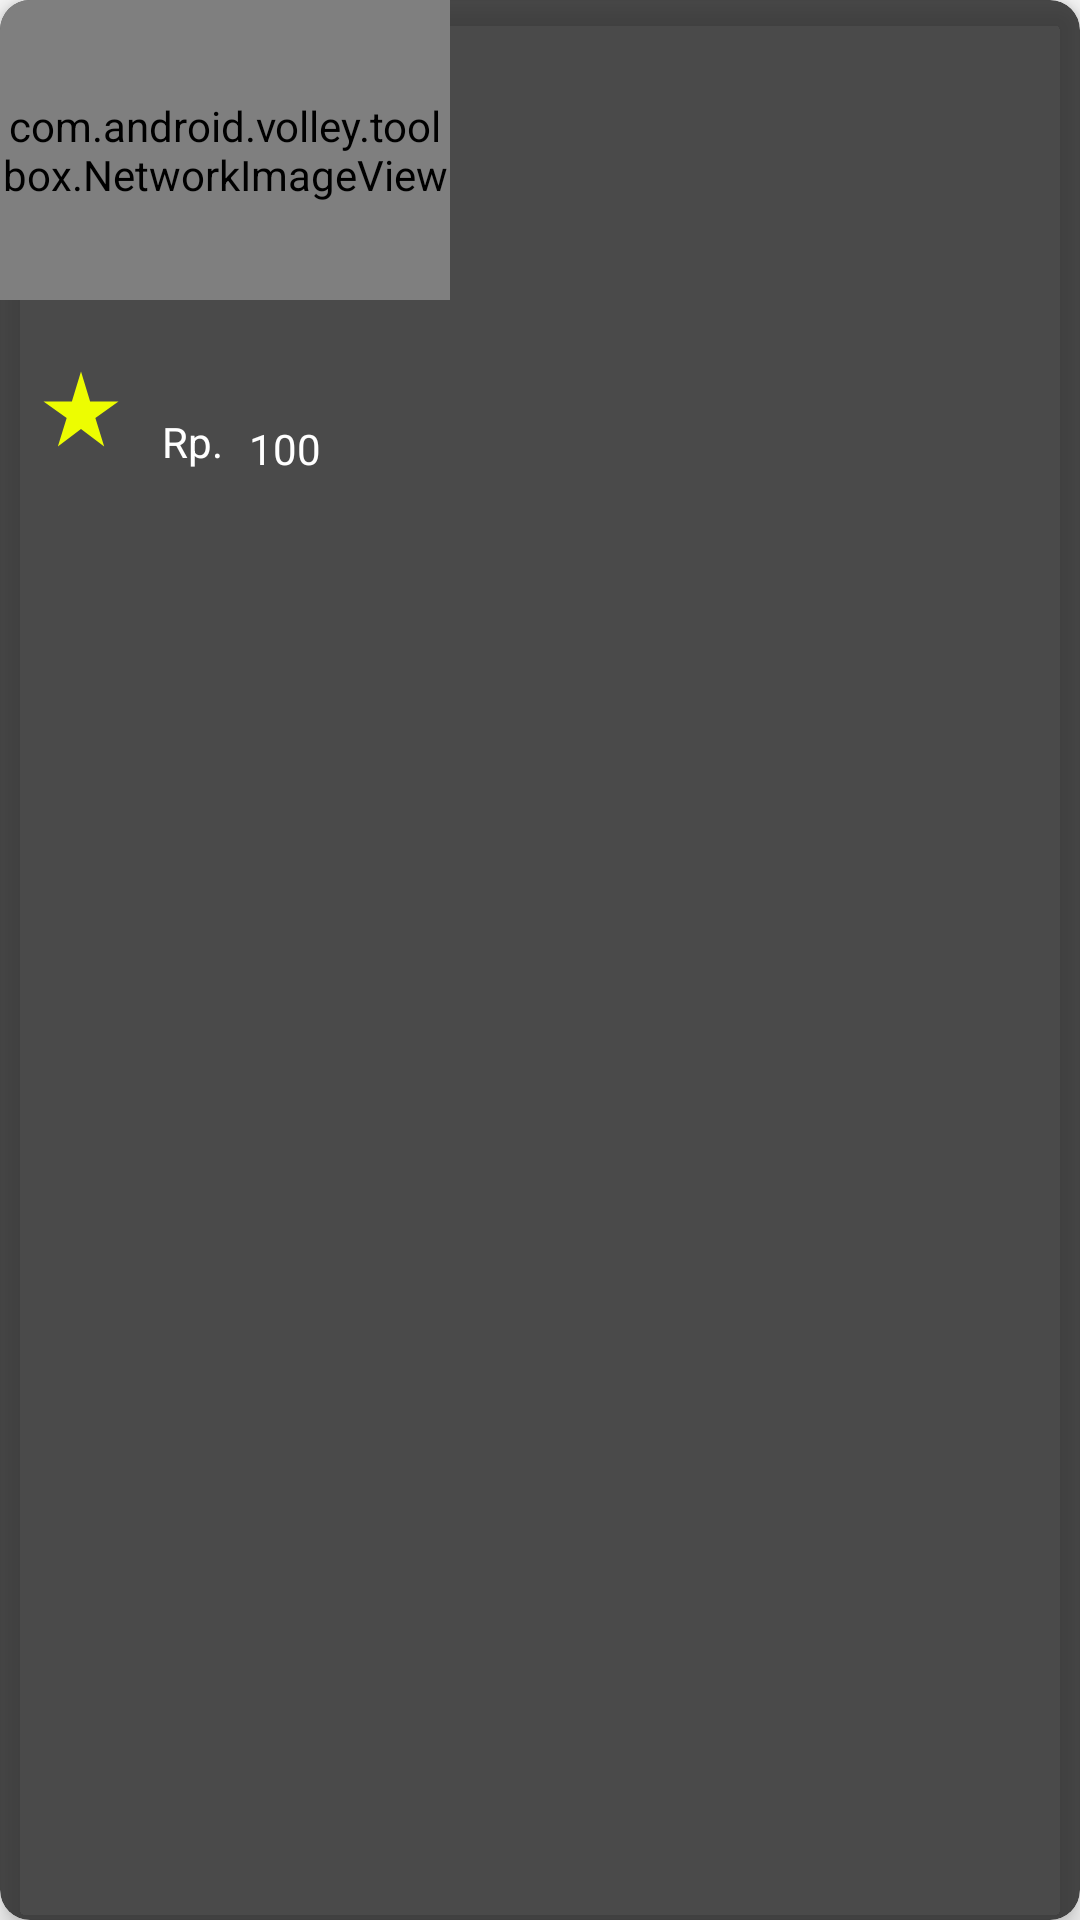

Icon click points for this 1080px x 1920px phone screenshot, format (x,y):
star rate: (81,409)
